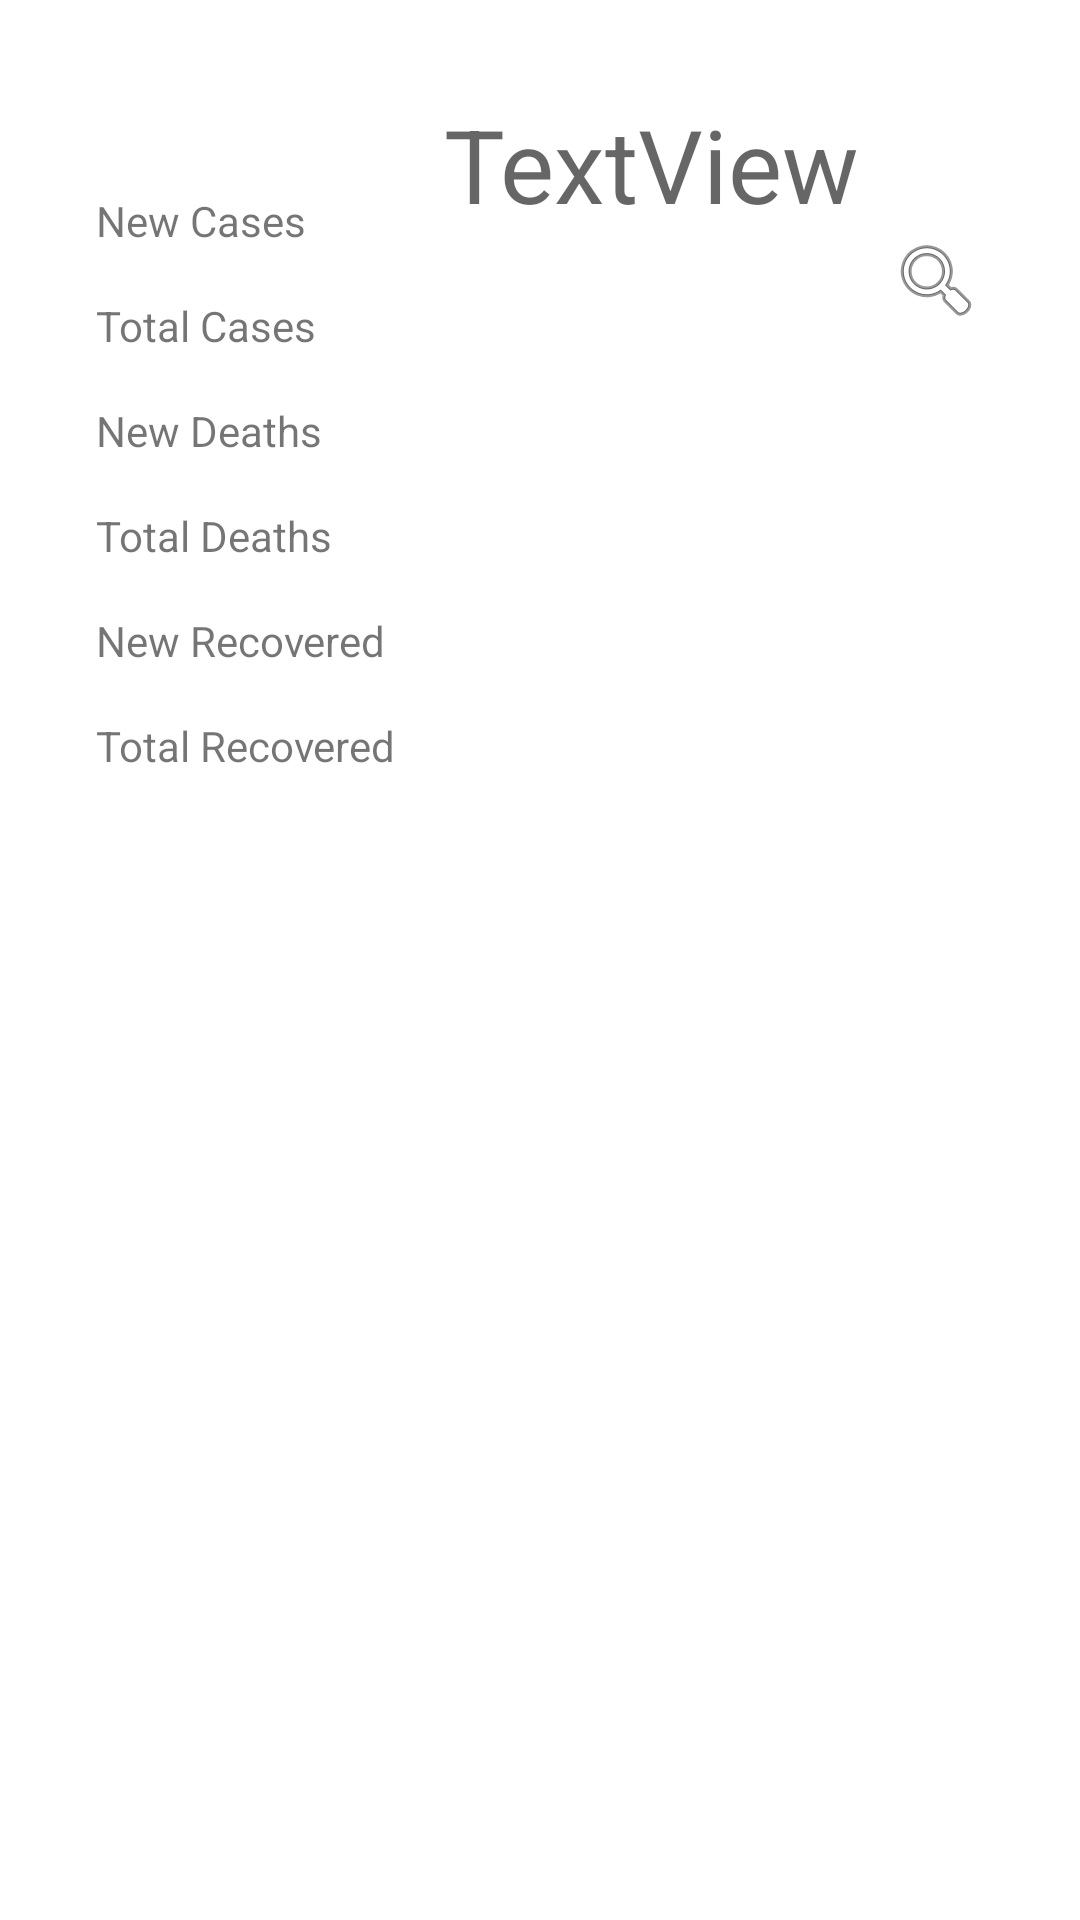

Where icons sit on this 1080 x 1920 app screen, as (x1=x1, y1=y1, x2=x2, y2=y2):
search: (x1=900, y1=245, x2=972, y2=316)
